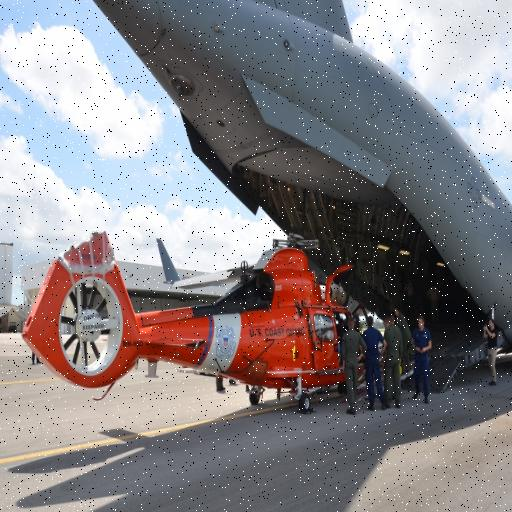helicopter: (21, 224, 385, 414)
